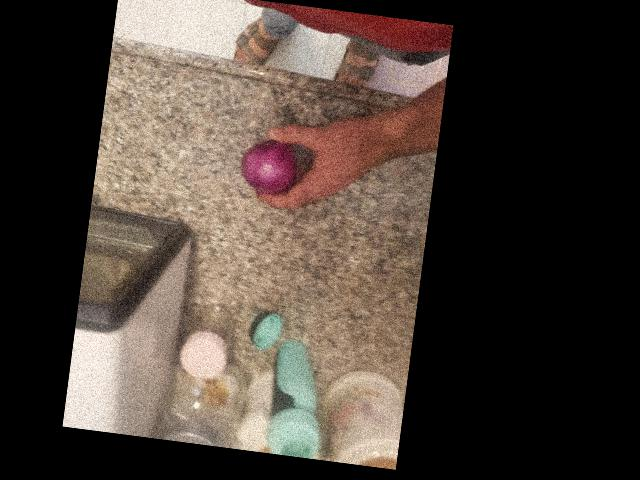onion: (105, 230, 165, 291)
